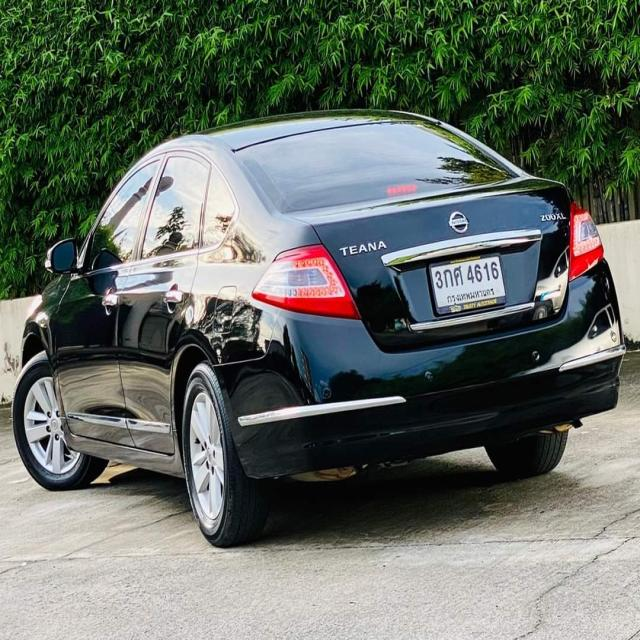license_plate: (427, 252, 508, 319)
